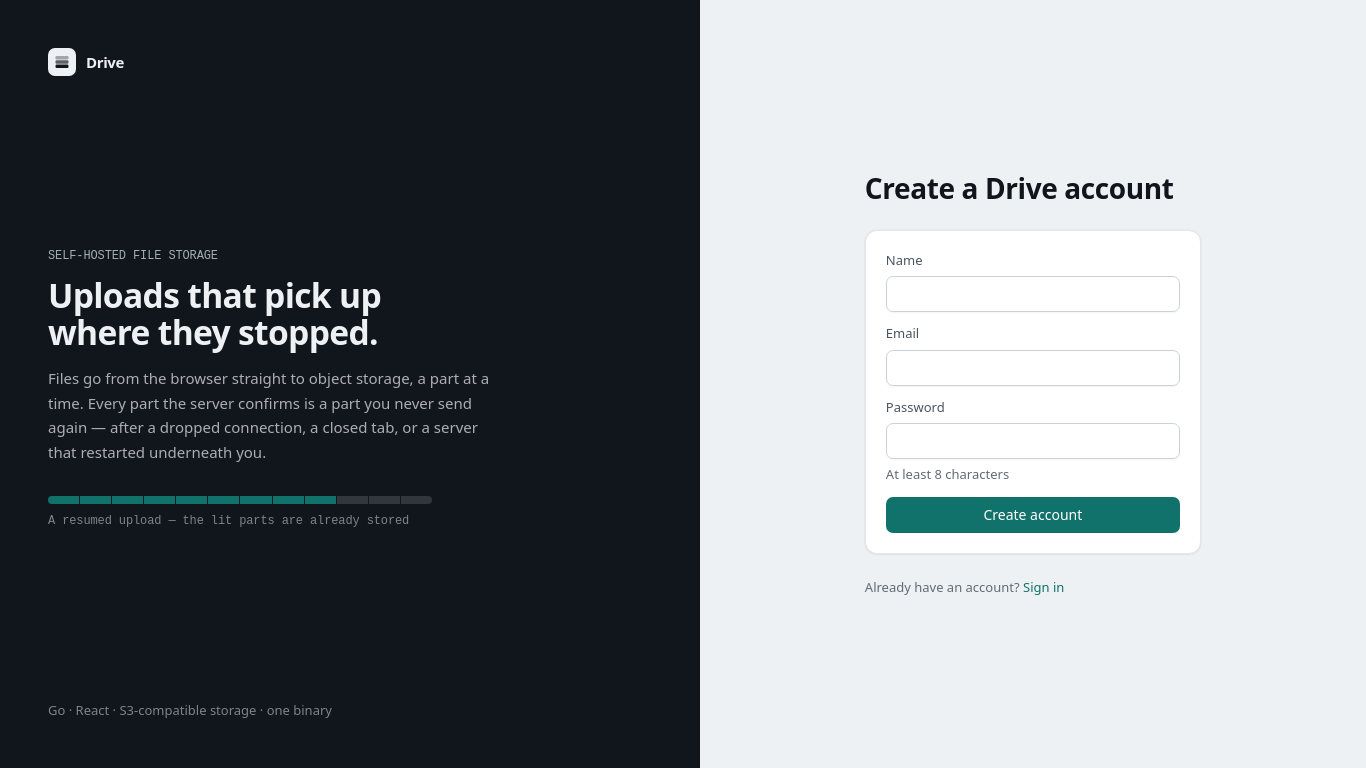
Test: /signup › claims nothing about whether the address was free
Step 1. Type "Someone" into the field labelled "Name" → (1033, 294), box [886,276,1180,312]
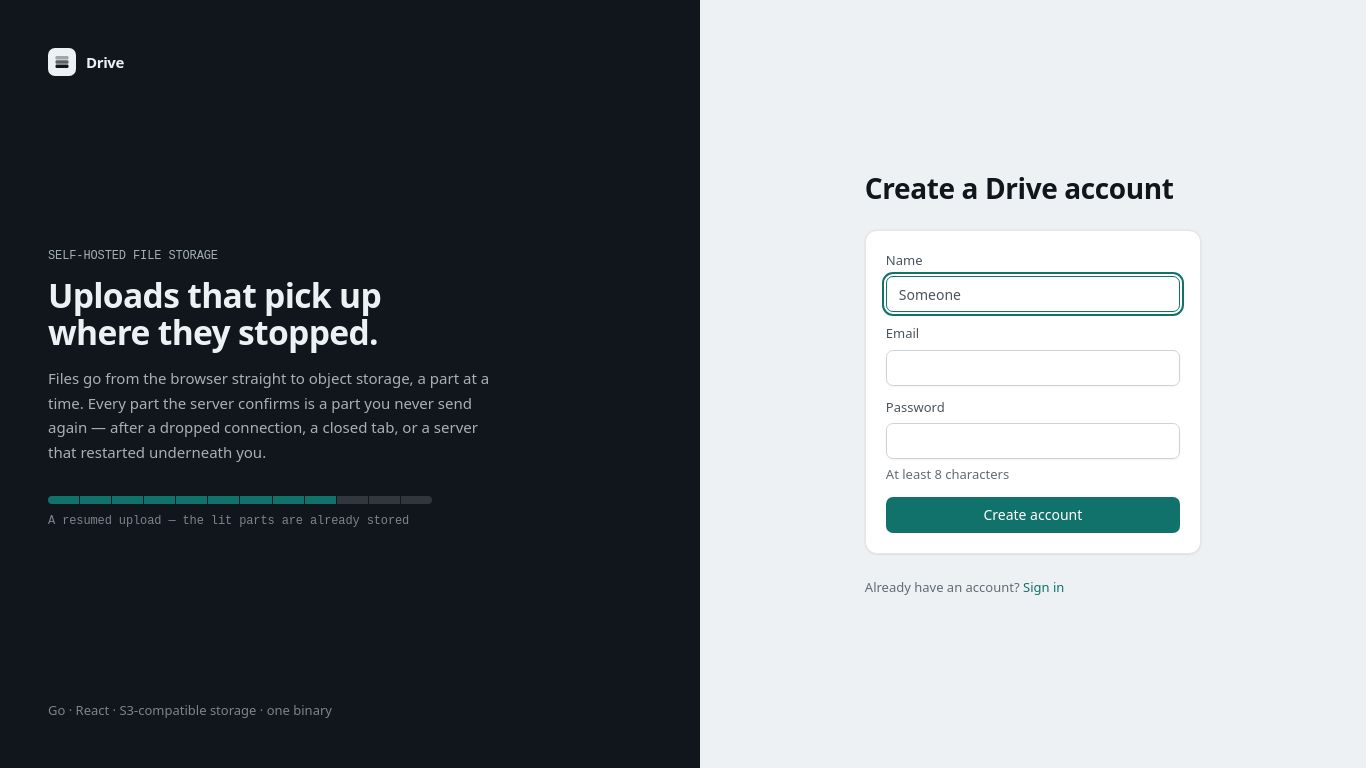
Step 2. Type "someone@example.test" into the field labelled "Email" → (1033, 368), box [886,350,1180,386]
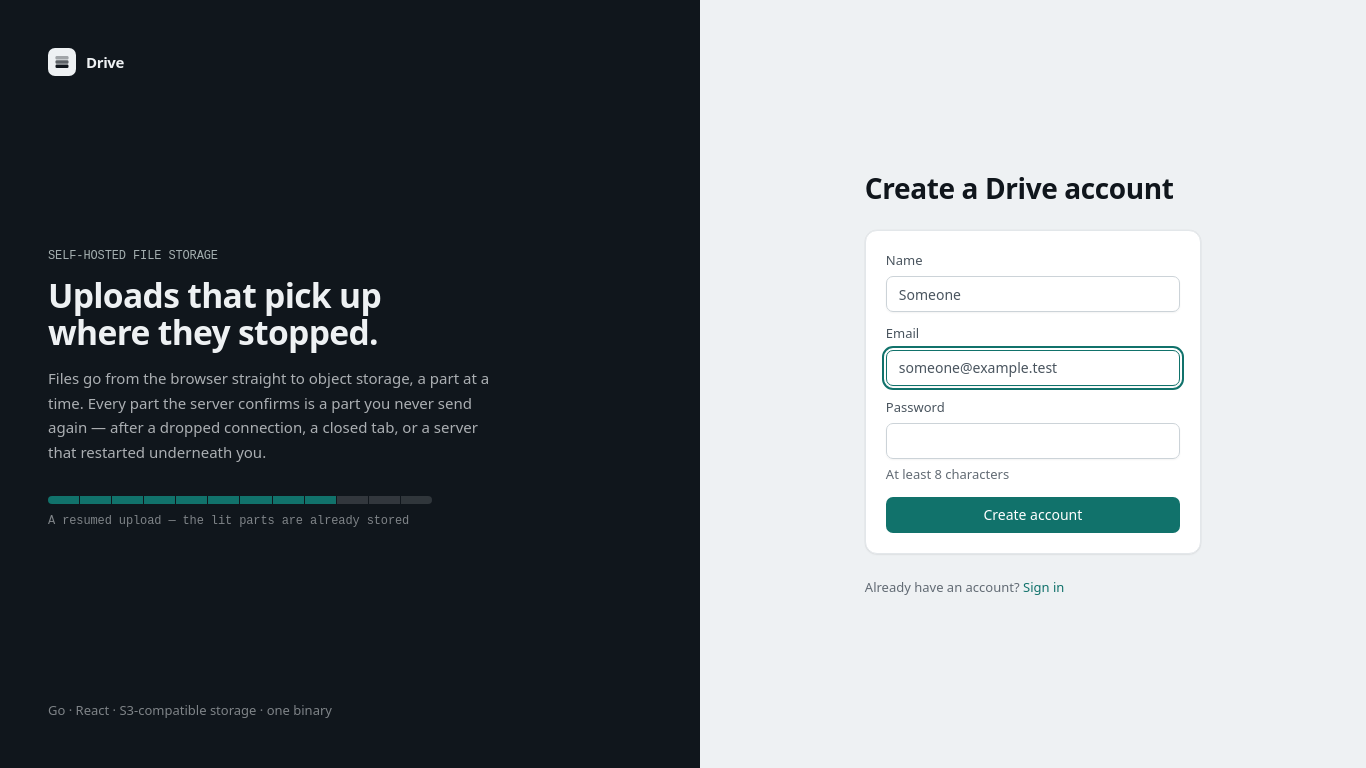
Step 3. Type "hunter2hunter2" into the password field labelled "Password" → (1033, 441), box [886,423,1180,459]
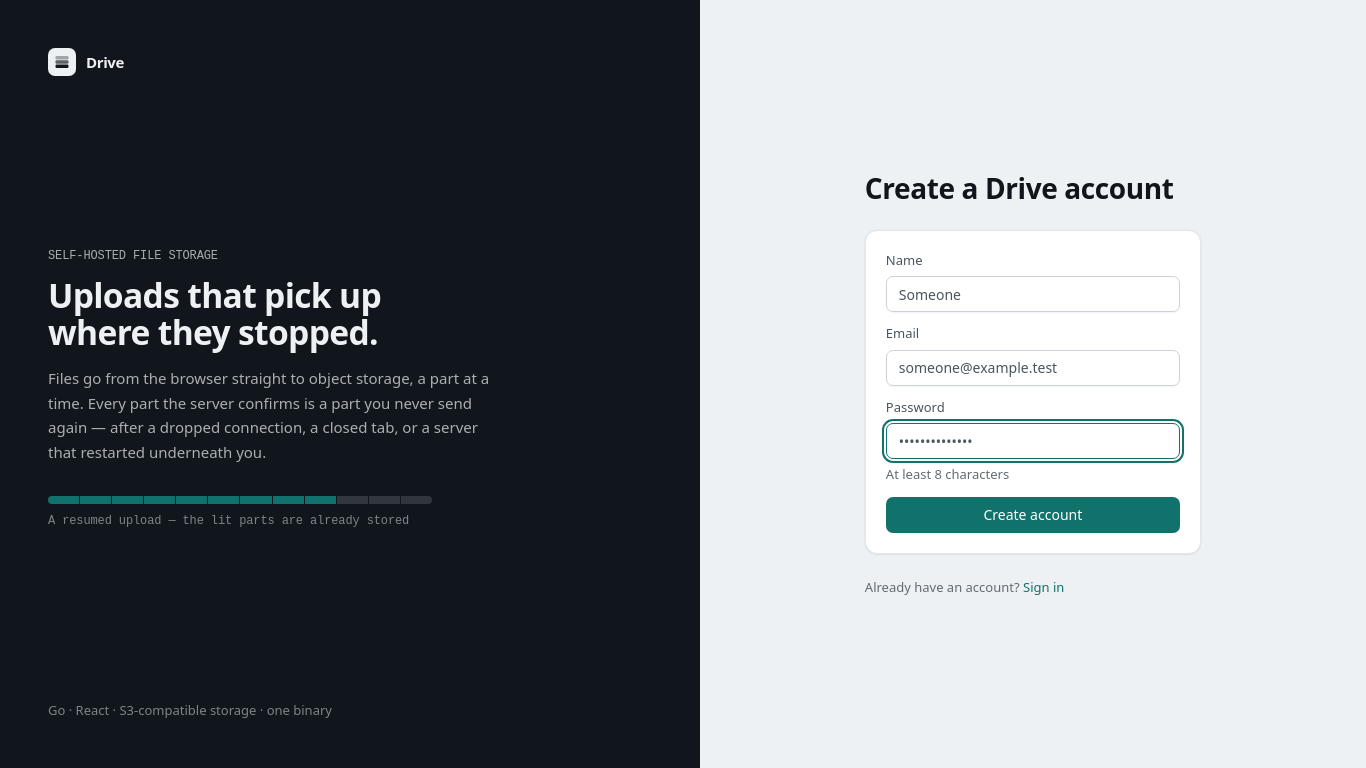
Step 4. Click the button "Create account" → (1033, 515), box [886,497,1180,533]
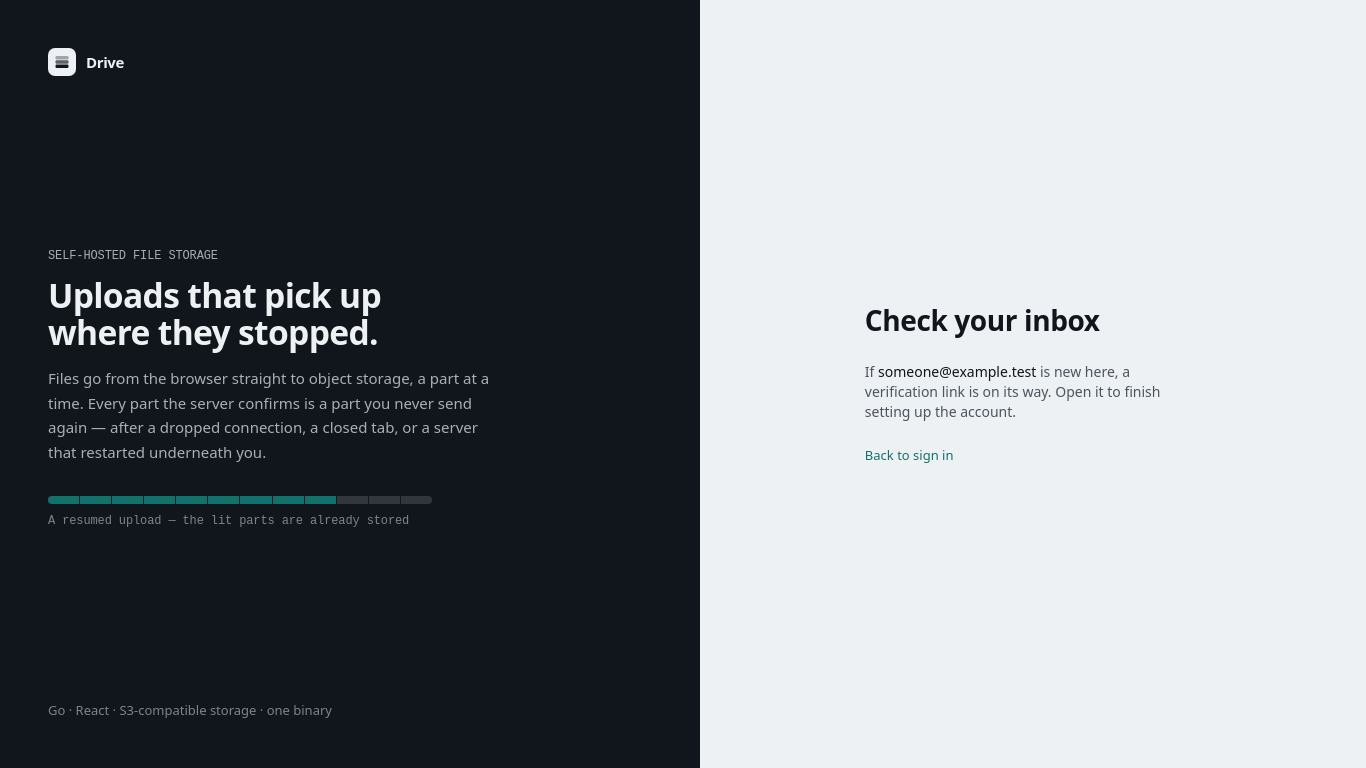
Check: the text "is new here" is shown, box [865,362,1160,421]
